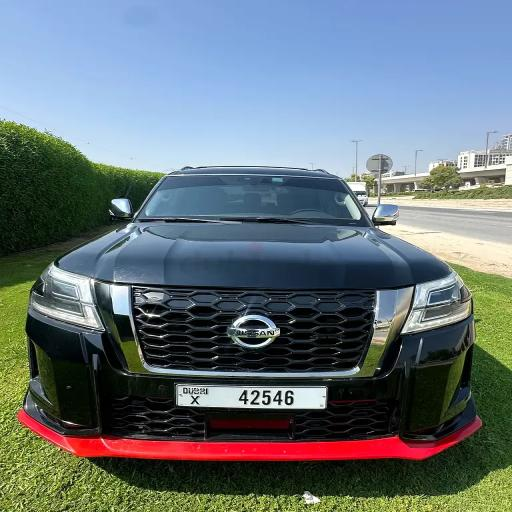license-plates: (176, 385, 327, 408)
